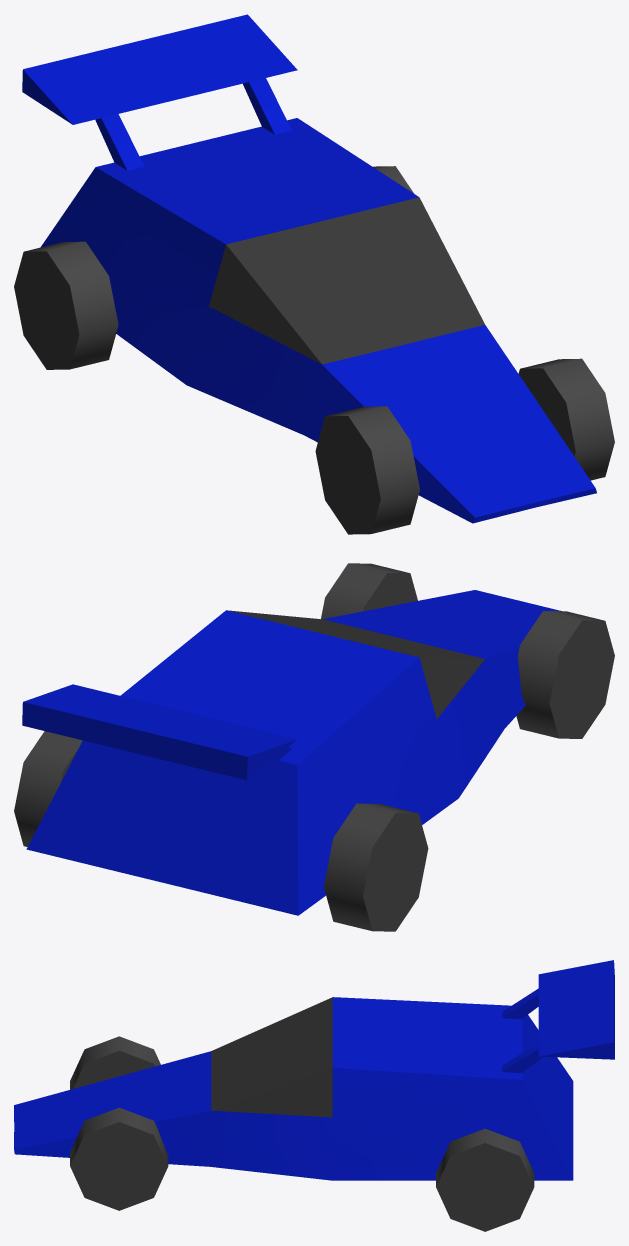
Rendered from teeny_racecar.fbx.
3 renders of one model, top to bottom at view 1: azimuth 30°, elevation 25°; view 2: azimuth 150°, elevation 25°; view 3: azimuth 270°, elevation 25°, orthographic. The views are drawn at different scales.
Parts seen in each view (by area): view 1: car.001; view 2: car.001; view 3: car.001.
Boxes of the visible parts, x1=… form: car.001: x1=14, y1=14, x2=614, y2=534; car.001: x1=14, y1=563, x2=614, y2=931; car.001: x1=14, y1=960, x2=614, y2=1231.
Size of the model in its own units: 25.29 by 15.42 by 50.31.
